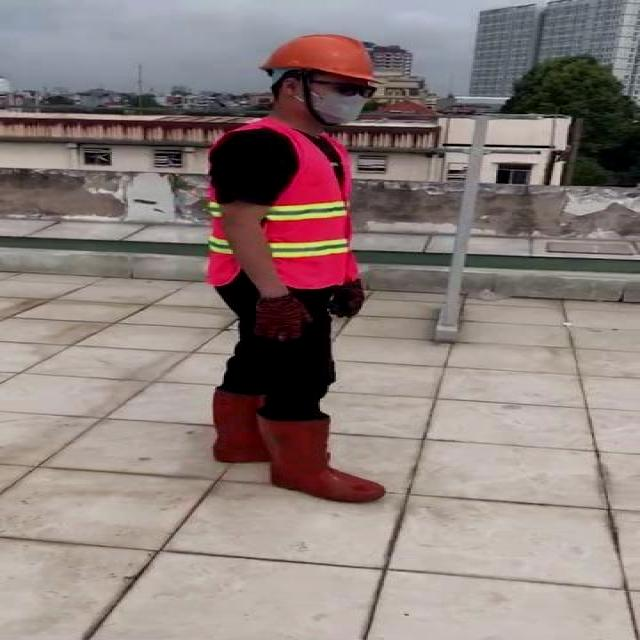boots: (268, 416, 388, 503), (215, 391, 272, 464)
face_mask: (311, 78, 377, 124)
glasses: (326, 79, 383, 99)
hand_glove: (252, 294, 314, 340), (329, 286, 364, 320)
head_helmet: (259, 34, 377, 80)
person: (196, 31, 398, 510)
vest: (199, 125, 359, 286)
